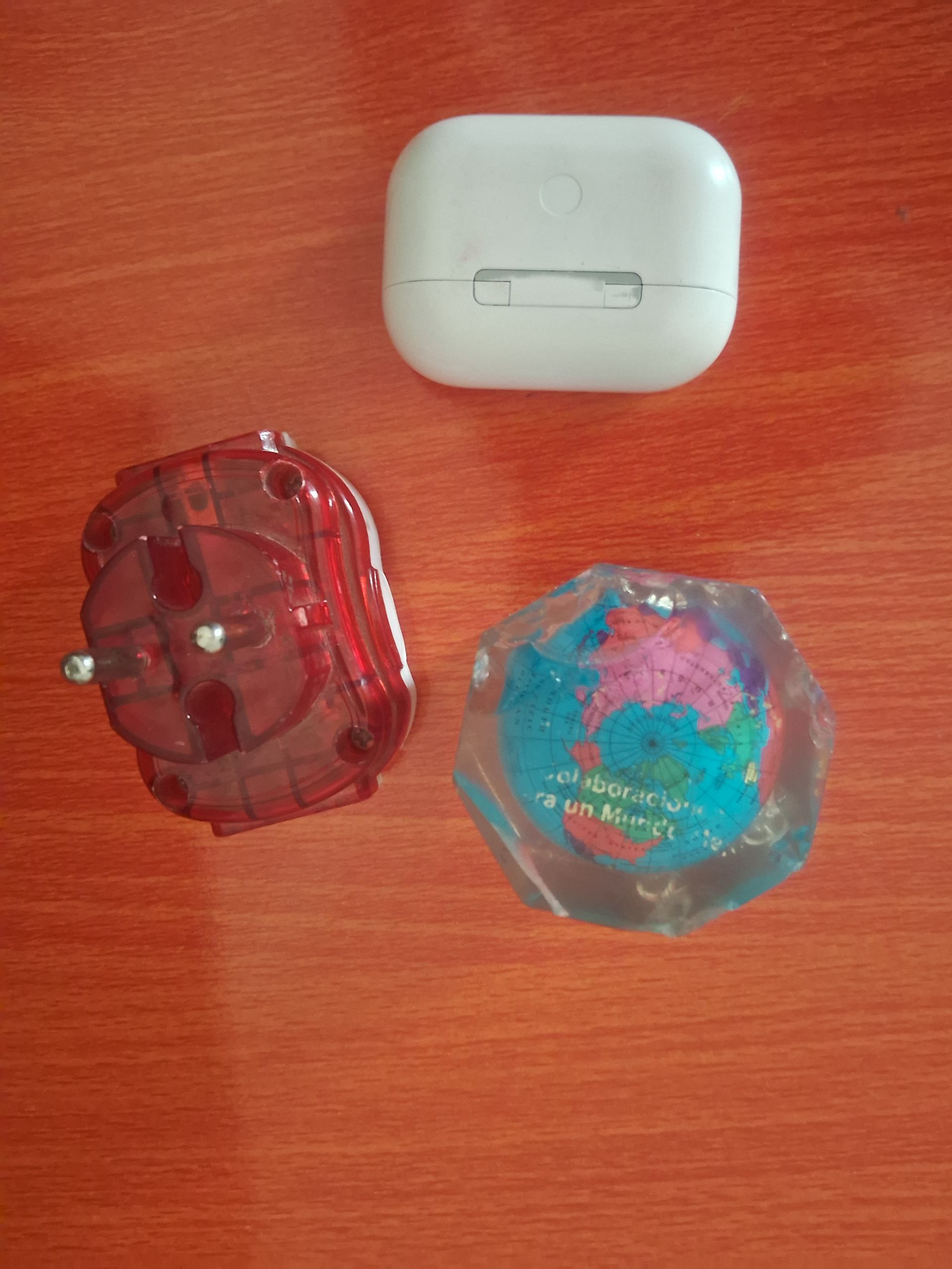Air_pod: (374, 101, 753, 406)
Multi_adapter: (58, 427, 422, 841)
world_globe: (444, 549, 852, 946)
